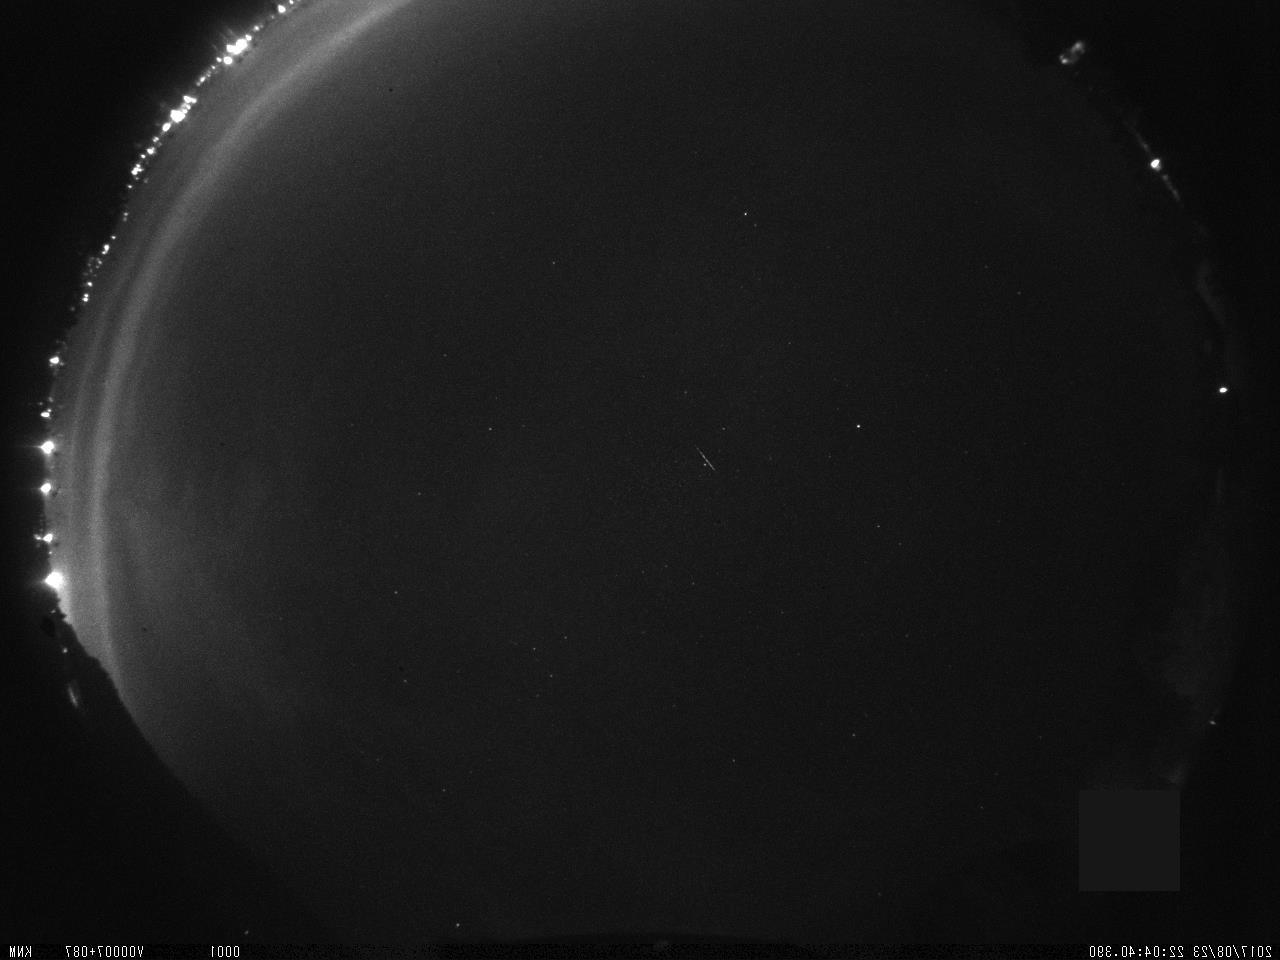meteor: (674, 435, 738, 484)
